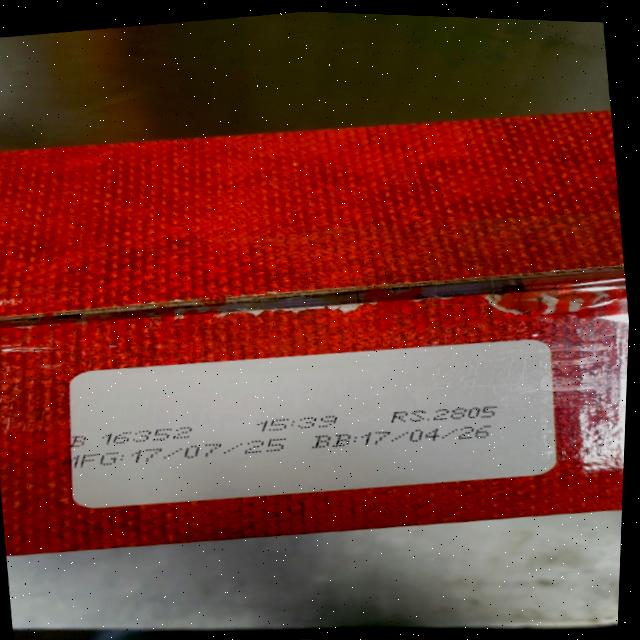BB: (312, 413, 500, 458)
Batch: (66, 419, 198, 453)
MFG: (72, 428, 289, 477)
RS: (389, 398, 502, 429)
TimeStamp: (254, 410, 342, 436)
